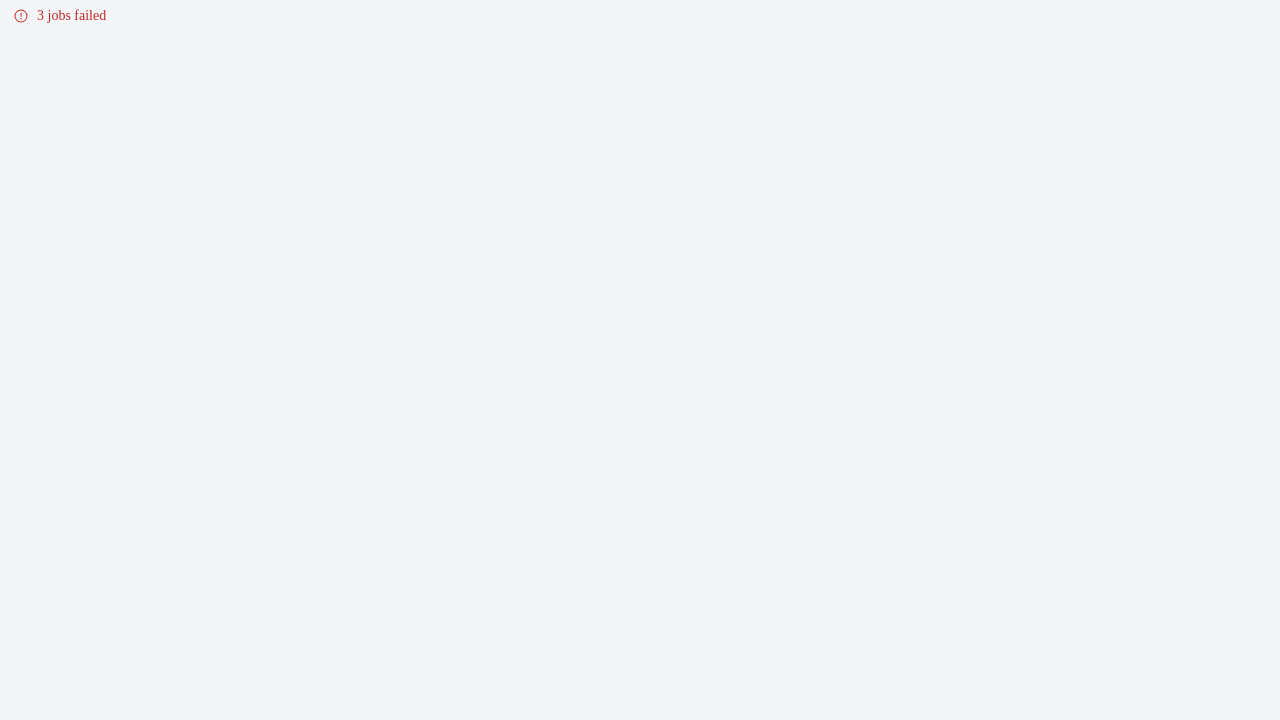
Test case: ActivityIndicator › shows failures as a button that opens a list of them
Click the button "3 jobs failed" at (60, 16), box [0,0,119,32]
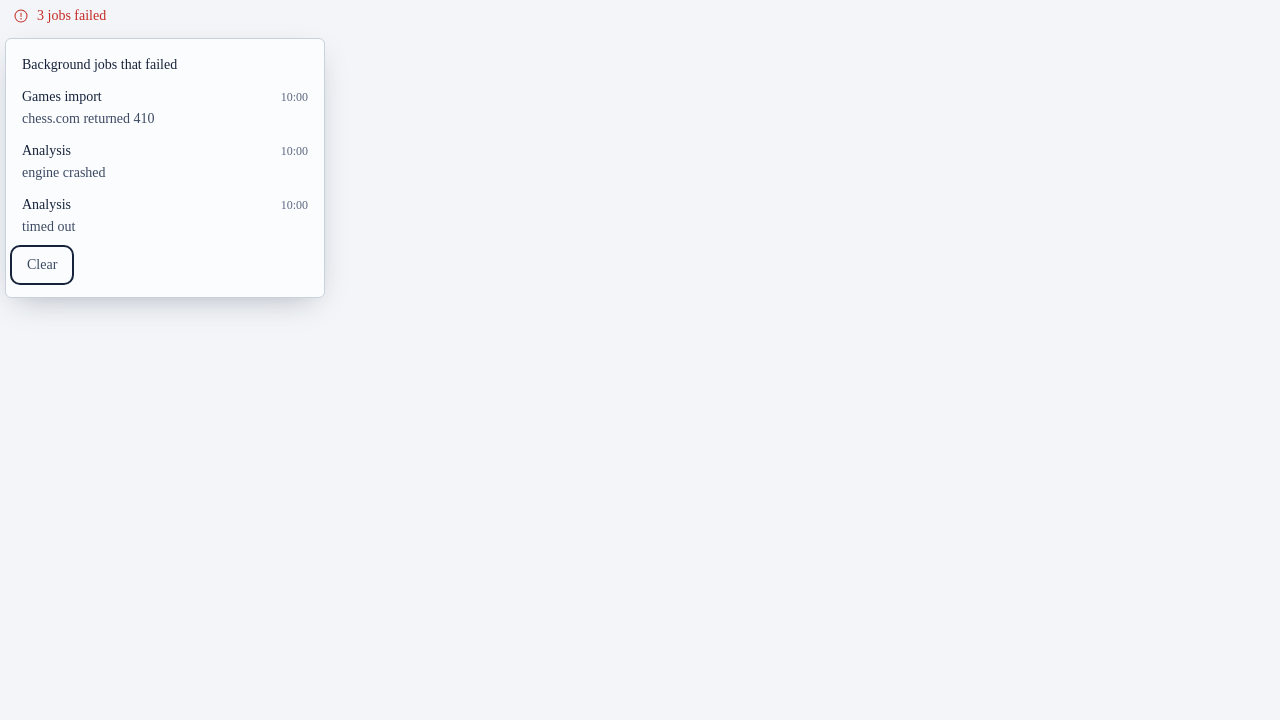
Now the text "chess.com returned 410" is shown, box [22,111,155,126]
Now the text "Games import" is shown, box [22,87,102,107]
Now the text "timed out" is shown, box [22,219,75,234]
